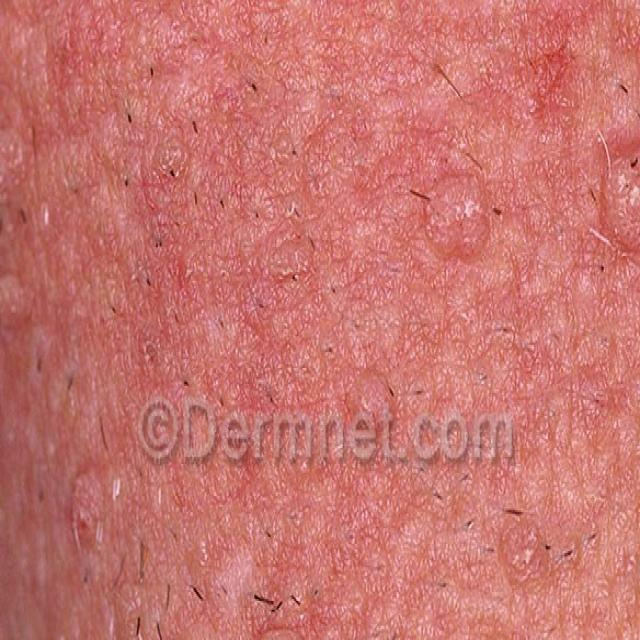Warts: (0, 44, 640, 640)
